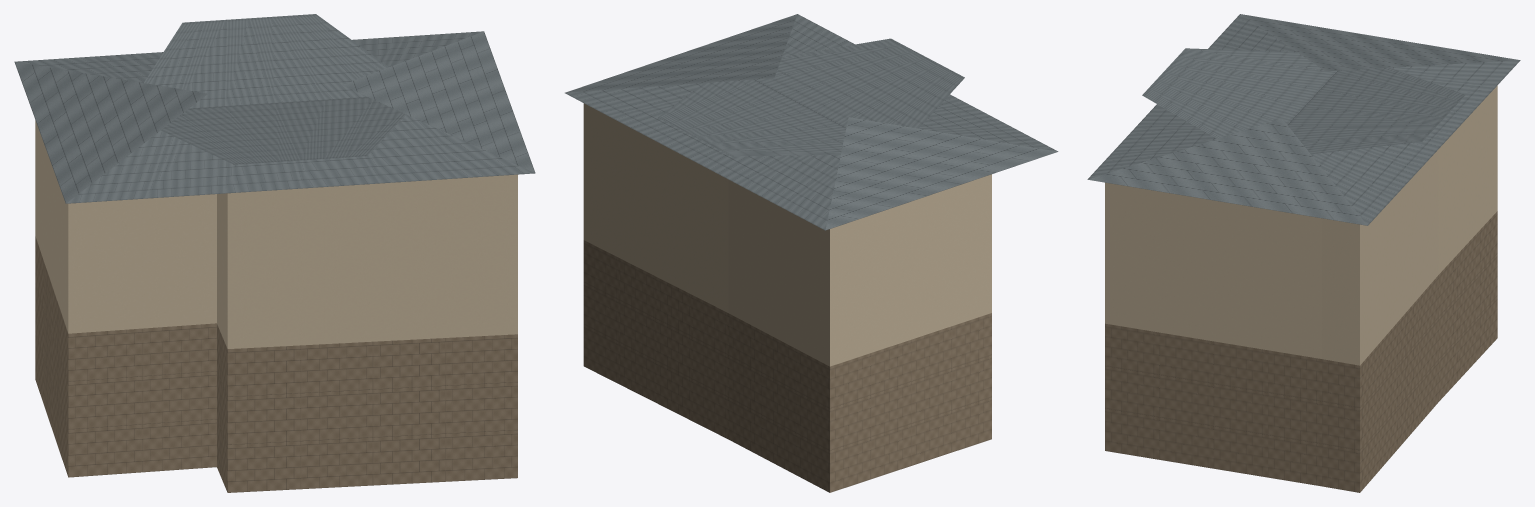
The model's file is bld_c21_43_377.gltf.
3 views of the same model, side by side, from view 1: azimuth 30°, elevation 25°; view 2: azimuth 150°, elevation 25°; view 3: azimuth 270°, elevation 25° (orthographic). The views are drawn at different scales.
Parts seen in each view (by area): view 1: bld_c21_43_377; view 2: bld_c21_43_377; view 3: bld_c21_43_377.
Boxes of the visible parts, <box> form: bld_c21_43_377: <box>14,14,535,492</box>; bld_c21_43_377: <box>565,14,1058,492</box>; bld_c21_43_377: <box>1087,14,1520,492</box>.
Size of the model in its own units: 18.2 by 12 by 15.74.
Materials: 3 (3 with a texture image).
